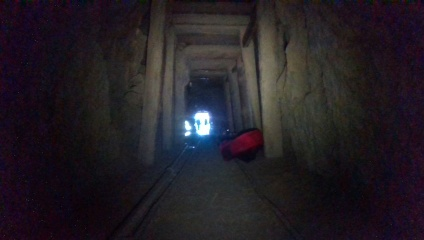backpack: (221, 130, 265, 161)
manikin: (180, 112, 193, 150)
